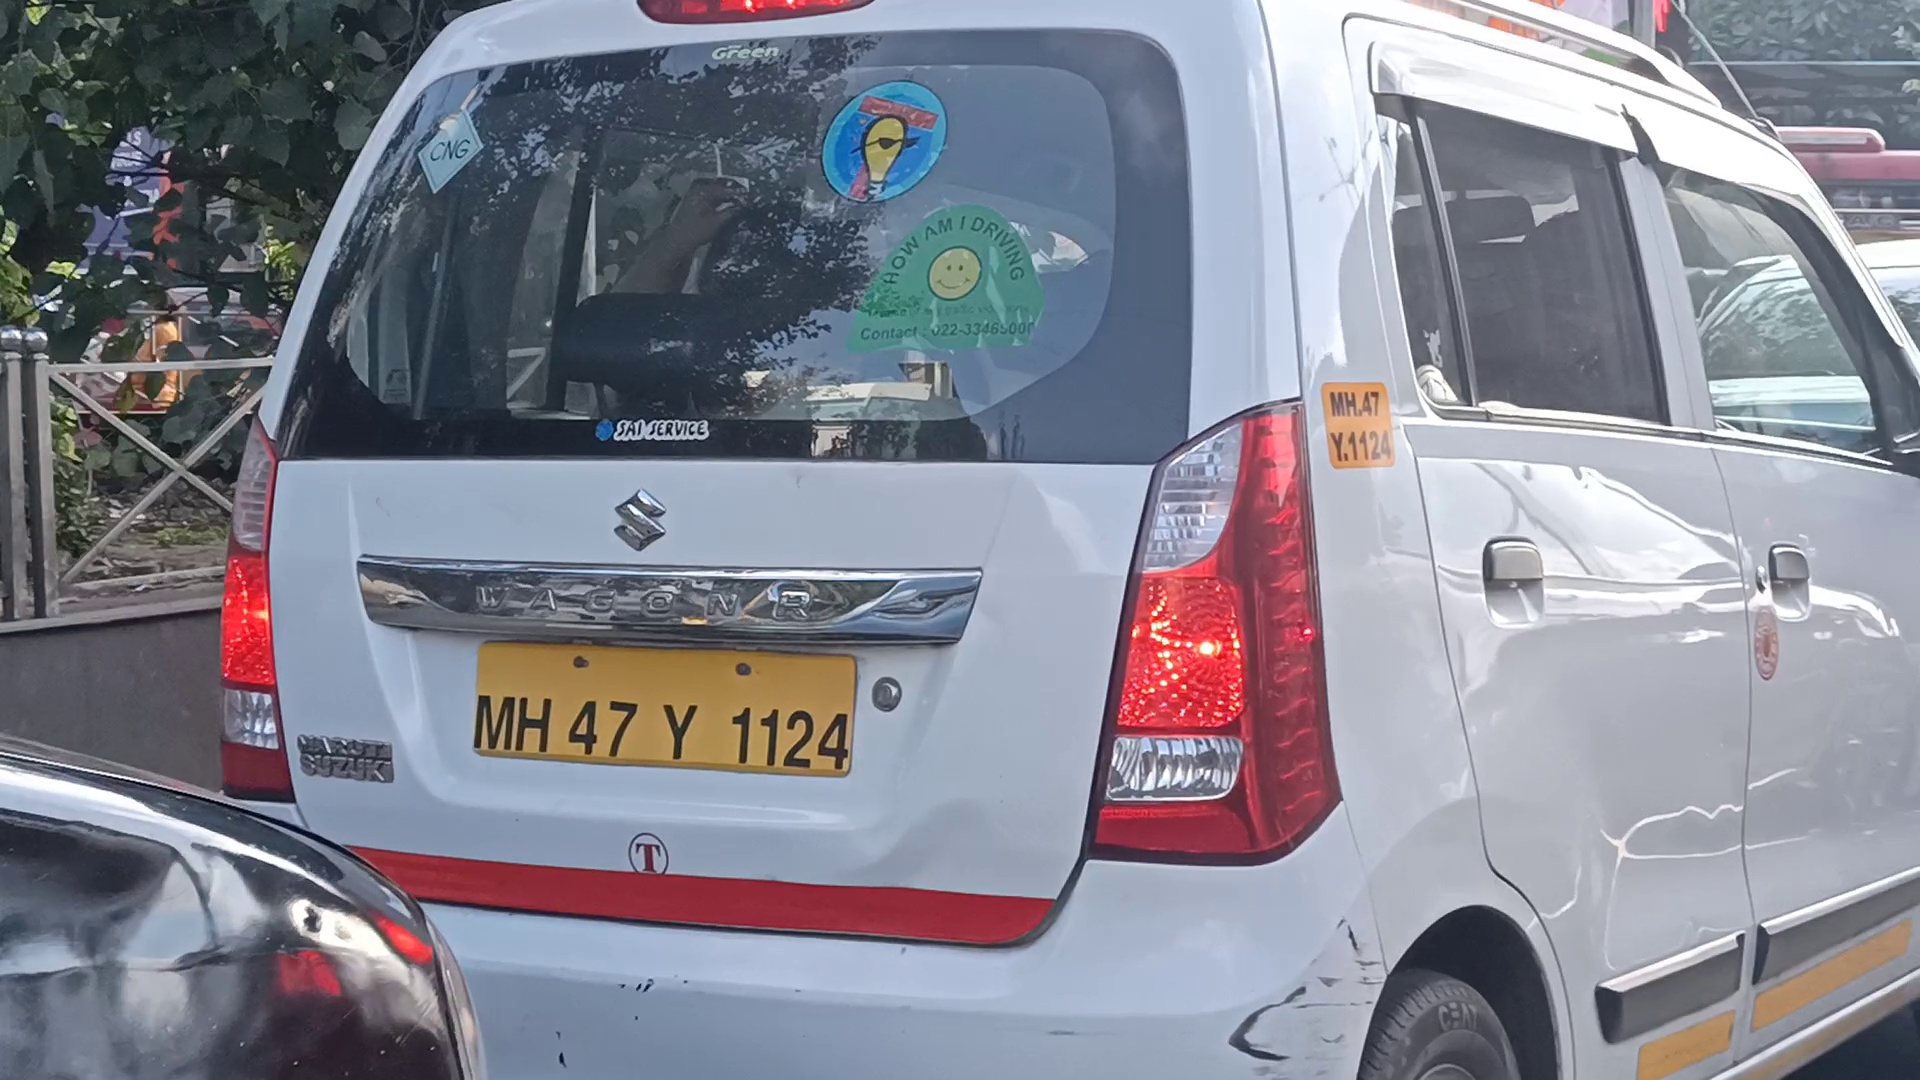MH47Y1124: (475, 641, 861, 781)
